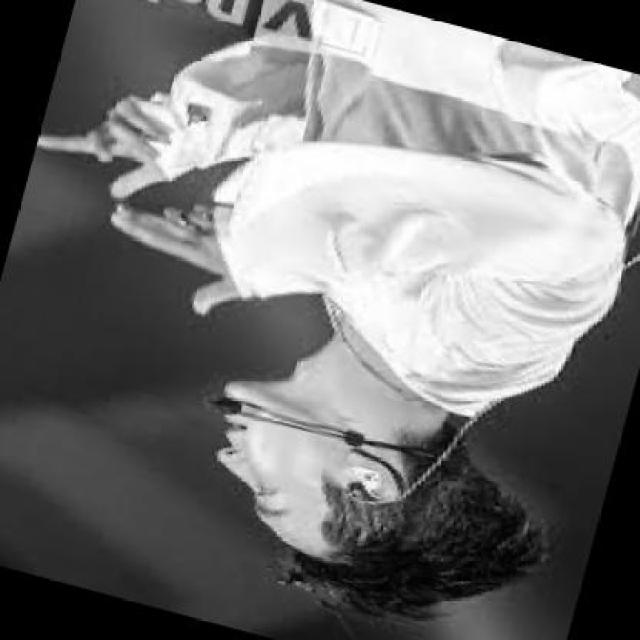earphone: (336, 452, 385, 509)
